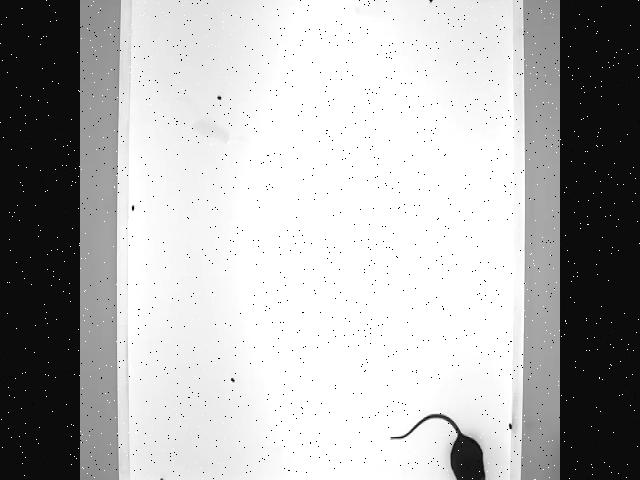Tikus: (387, 409, 488, 480)
